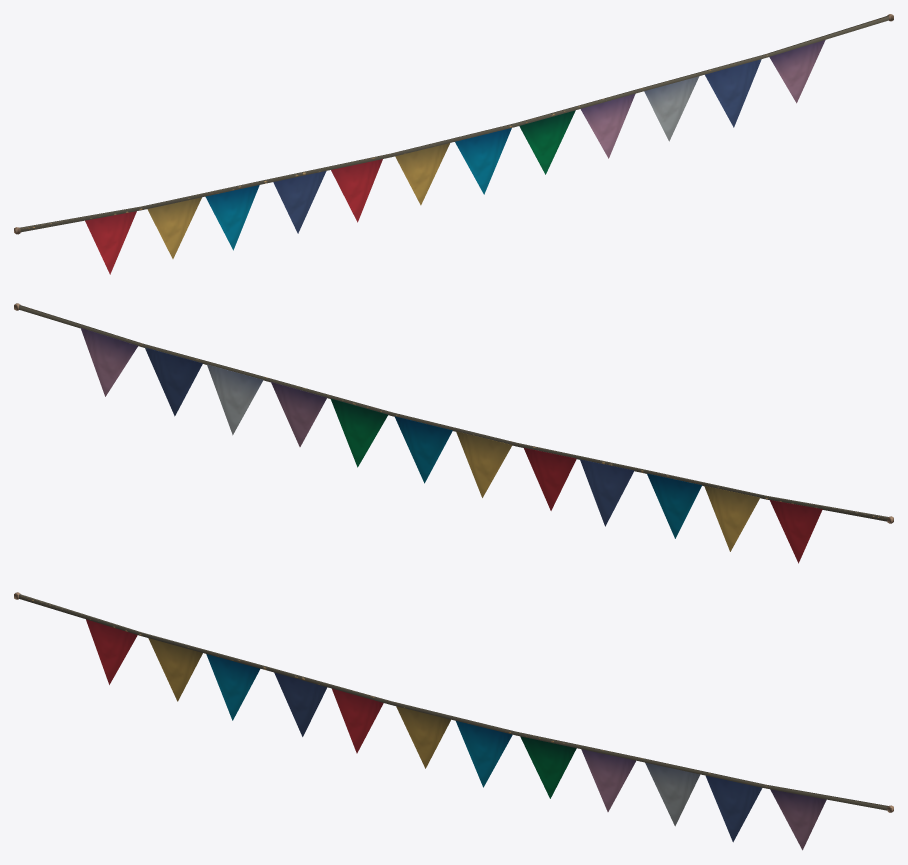
File: shop_cablei02b.fbx
The picture shows the model from 3 angles, top to bottom: view 1: azimuth 30°, elevation 25°; view 2: azimuth 150°, elevation 25°; view 3: azimuth 330°, elevation 25°; orthographic projection.
Visible parts, largest first — view 1: shopcable02b; view 2: shopcable02b; view 3: shopcable02b.
Boxes of the visible parts, bbox=[...] form: shopcable02b: bbox=[14, 14, 893, 274]; shopcable02b: bbox=[14, 303, 893, 563]; shopcable02b: bbox=[14, 592, 893, 850].
Bounding box in the file's own units: 344 × 30.25 × 2.73.
